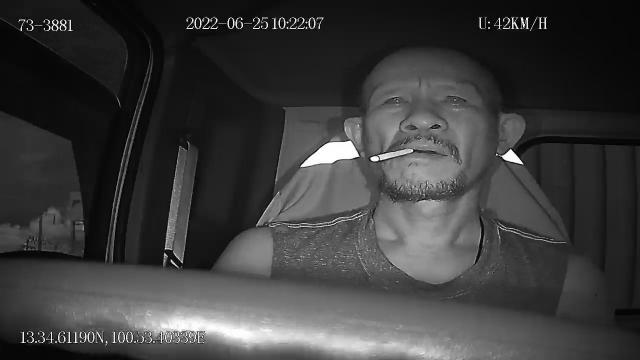SafeDriving: (376, 86, 416, 116), (434, 85, 474, 114)
Smoking: (368, 146, 414, 162)
